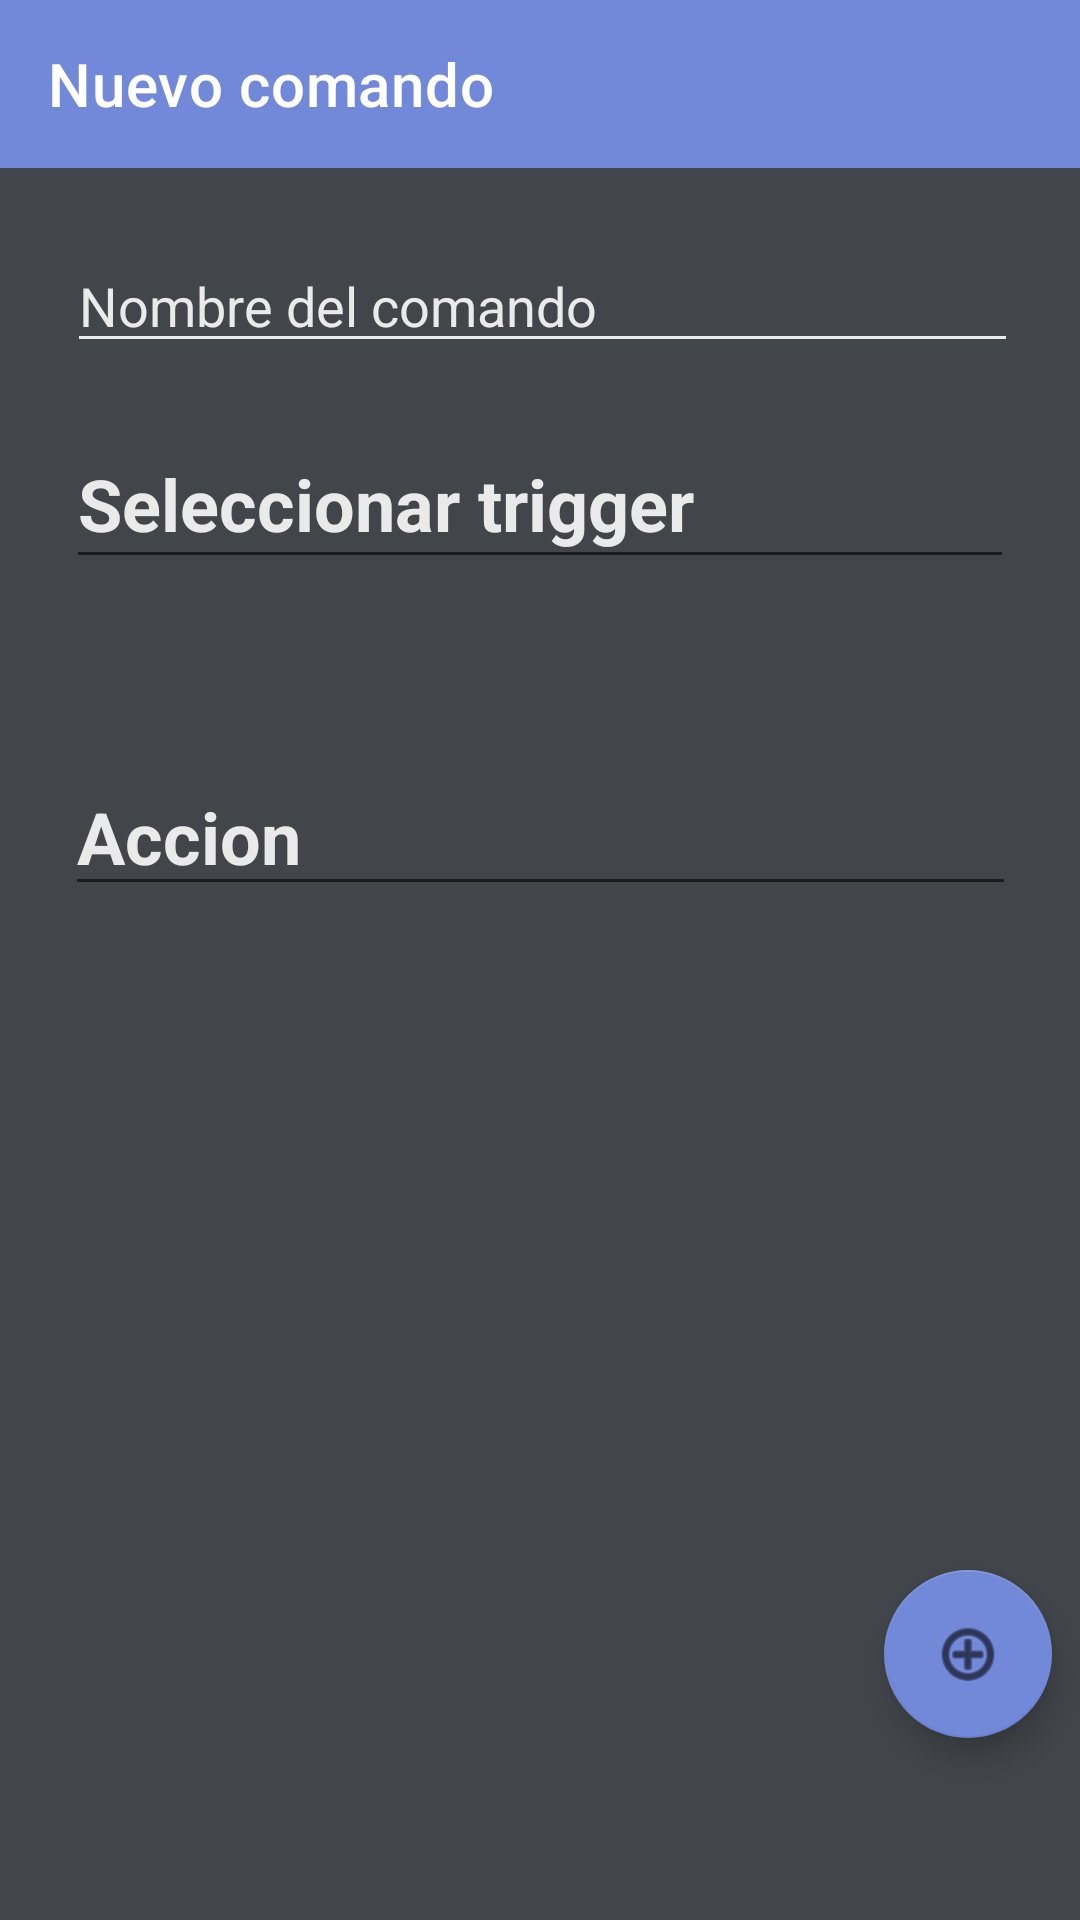

Locate icon controls on the screen. Image size 1080 × 1920, boxes as (x1, y1, x2, y2).
add: (884, 1570, 1052, 1738)
